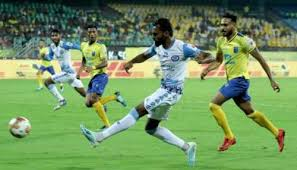football: (8, 116, 31, 138)
